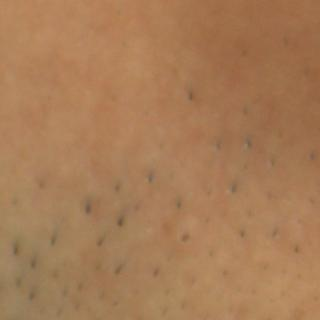Pores: (79, 198, 97, 217), (89, 233, 108, 251), (209, 135, 226, 155), (33, 176, 50, 195), (143, 168, 158, 187), (157, 303, 173, 320), (113, 212, 128, 230), (109, 182, 126, 197), (11, 273, 25, 291), (70, 299, 85, 315), (269, 225, 283, 242), (227, 180, 240, 198), (200, 185, 215, 200), (239, 159, 254, 174), (45, 230, 59, 246), (113, 260, 129, 274), (26, 286, 40, 302), (130, 285, 144, 301), (263, 188, 277, 204), (9, 195, 22, 211), (57, 257, 69, 274), (179, 231, 193, 245), (238, 105, 252, 119), (259, 261, 273, 275), (173, 196, 186, 211), (160, 287, 175, 300), (26, 256, 38, 272), (236, 225, 248, 241), (9, 241, 20, 258), (306, 148, 317, 165), (290, 242, 304, 255), (280, 35, 293, 49), (292, 271, 306, 284), (150, 265, 162, 280), (157, 137, 167, 155), (249, 285, 261, 300), (49, 266, 60, 282), (186, 86, 196, 103), (278, 265, 291, 278), (225, 305, 238, 318), (241, 137, 253, 151), (177, 298, 189, 312), (268, 154, 279, 169), (54, 307, 66, 320), (59, 283, 70, 297), (202, 214, 213, 228), (75, 278, 87, 290), (244, 208, 256, 220), (294, 215, 306, 227), (276, 128, 286, 141), (205, 247, 216, 258), (308, 195, 318, 207), (111, 297, 121, 308), (219, 265, 229, 276), (189, 275, 197, 288), (131, 204, 142, 213), (90, 314, 101, 320), (262, 316, 275, 320), (133, 316, 146, 320), (284, 318, 295, 320)
